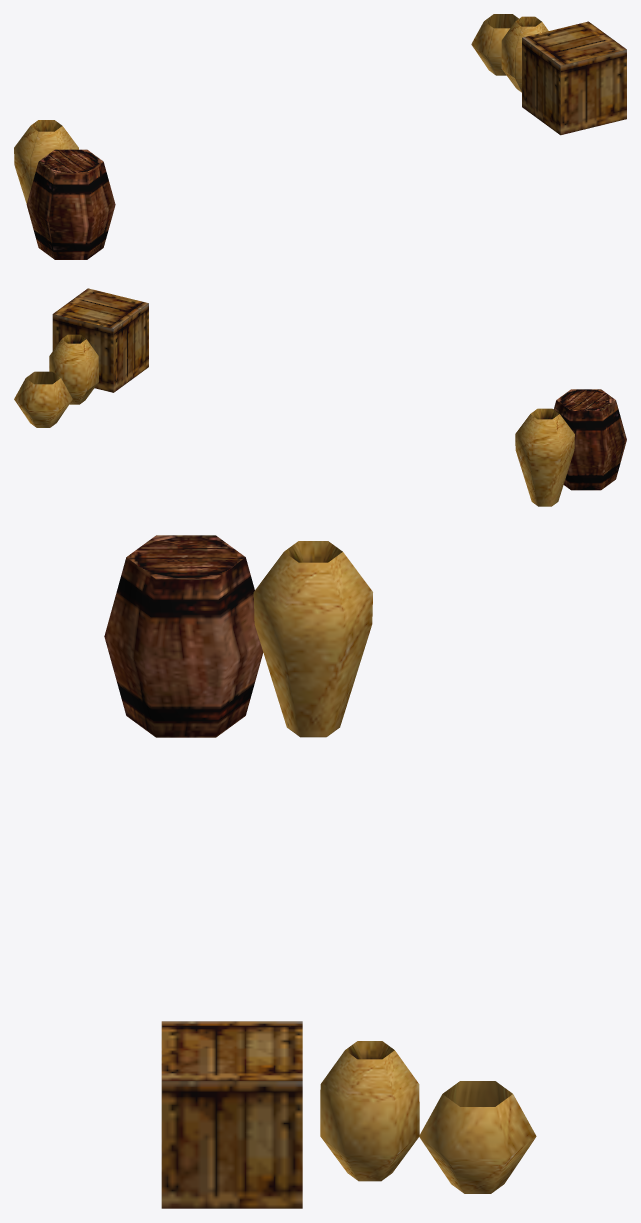
File: pers_dock_1.dae
3 renders of one model, top to bottom at view 1: azimuth 30°, elevation 25°; view 2: azimuth 150°, elevation 25°; view 3: azimuth 270°, elevation 25°, orthographic. The views are drawn at different scales.
Visible parts, largest first — view 1: GeoSphere06-Pivot; view 2: GeoSphere06-Pivot; view 3: GeoSphere06-Pivot.
Boxes of the visible parts, <box> form: GeoSphere06-Pivot: <box>14,14,626,259</box>; GeoSphere06-Pivot: <box>14,288,626,506</box>; GeoSphere06-Pivot: <box>104,535,536,1208</box>.
Size of the model in its own units: 13.14 by 4.6 by 2.15.
